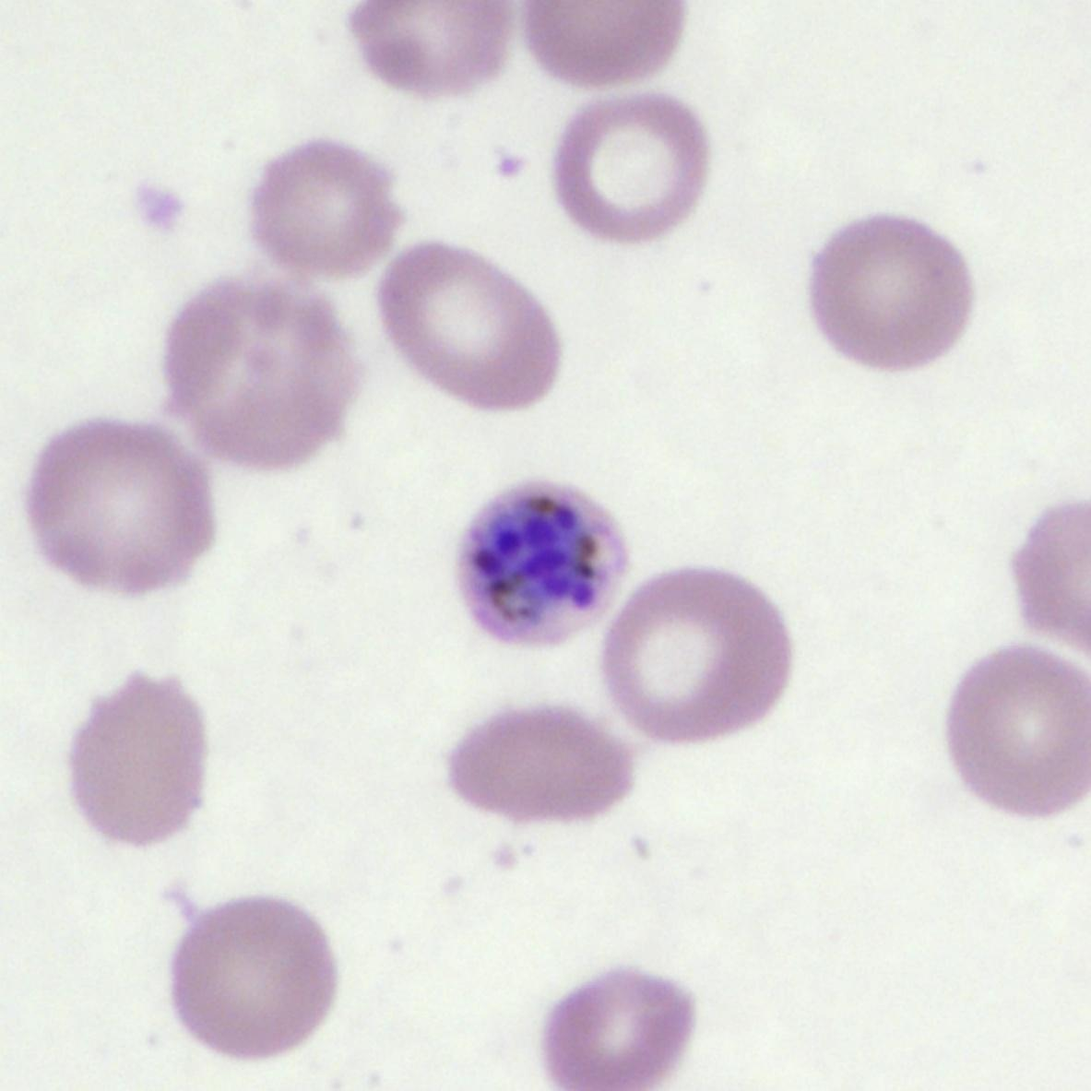Infected: (455, 484, 628, 655)
Uninfected: (160, 272, 351, 467), (25, 419, 216, 592), (609, 564, 788, 744), (381, 235, 556, 409), (163, 896, 337, 1066), (812, 210, 977, 376), (550, 87, 710, 249), (947, 640, 1091, 817), (68, 671, 208, 848), (449, 708, 636, 832), (249, 139, 407, 276), (538, 960, 696, 1091)
